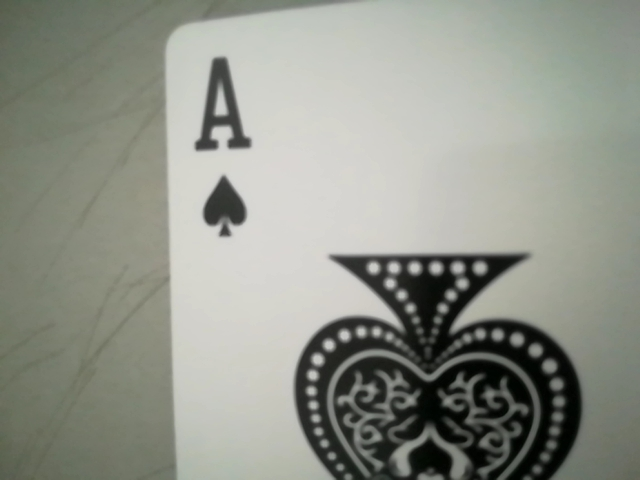ht a: (185, 54, 258, 243)
